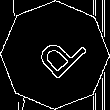P_SW: (24, 24, 86, 86)
